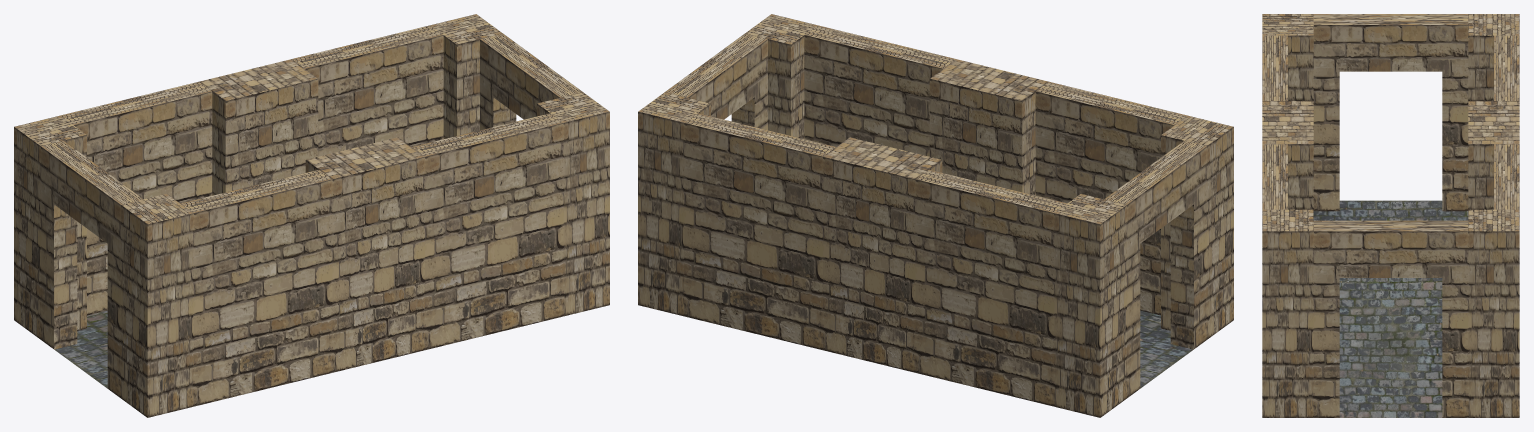
The model's file is 1_twoBlockHallway.fbx.
3 renders of one model, left to right at view 1: azimuth 30°, elevation 25°; view 2: azimuth 150°, elevation 25°; view 3: azimuth 270°, elevation 25°, orthographic. The views are drawn at different scales.
Visible parts, largest first — view 1: Cube_6, Plane; view 2: Cube_6, Plane; view 3: Cube_6, Plane.
Boxes of the visible parts, x1,y1,x2,y2 form: Cube_6: (14,14,609,417); Plane: (54,310,107,388); Cube_6: (638,14,1233,417); Plane: (1140,310,1193,388); Cube_6: (1262,14,1519,417); Plane: (1313,200,1468,417).
Bounding box in the file's own units: 20 × 8 × 10.
2 materials, 2 textured.
